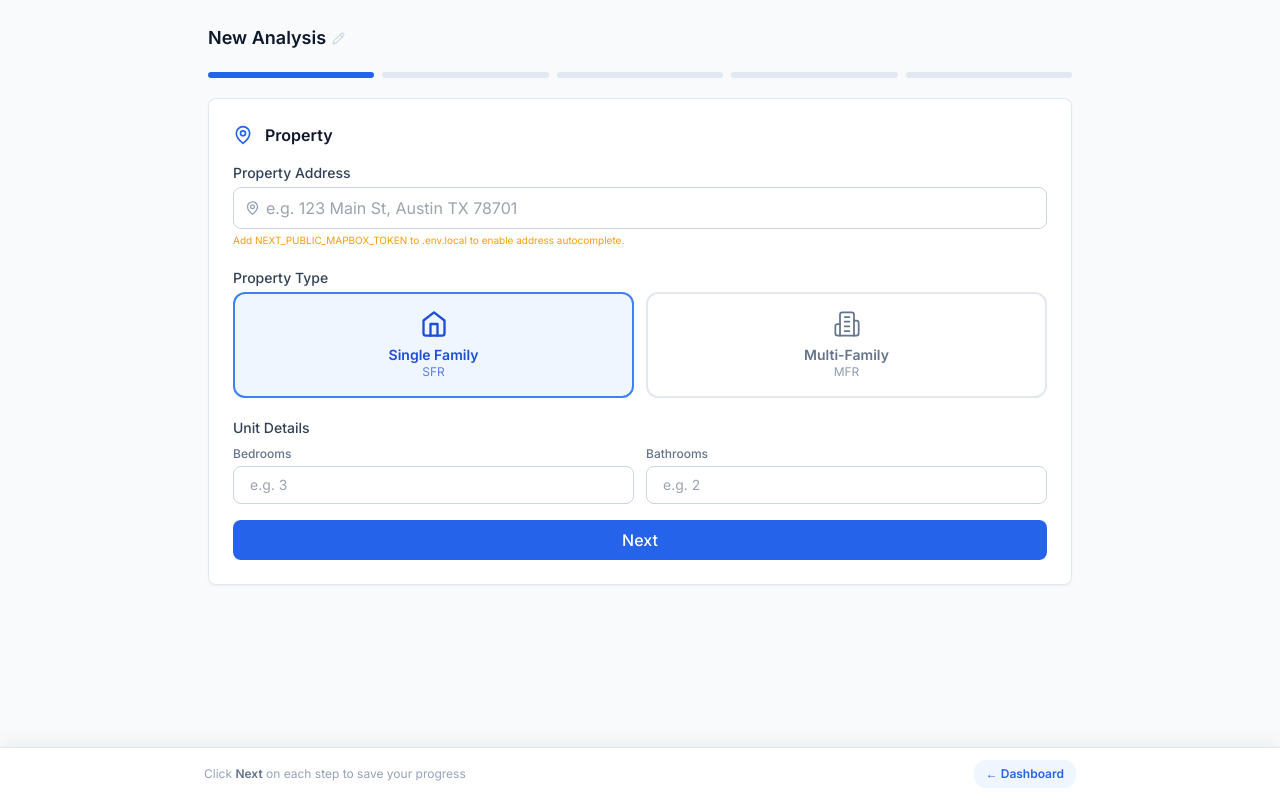
it: DealAnalyzerForm step 0 — address required › Next advances once address is provided
In the field with placeholder "e.g. 123 Main St, Austin TX 78701": (640, 208) [233,187,1047,229], type "1 Test Rd"
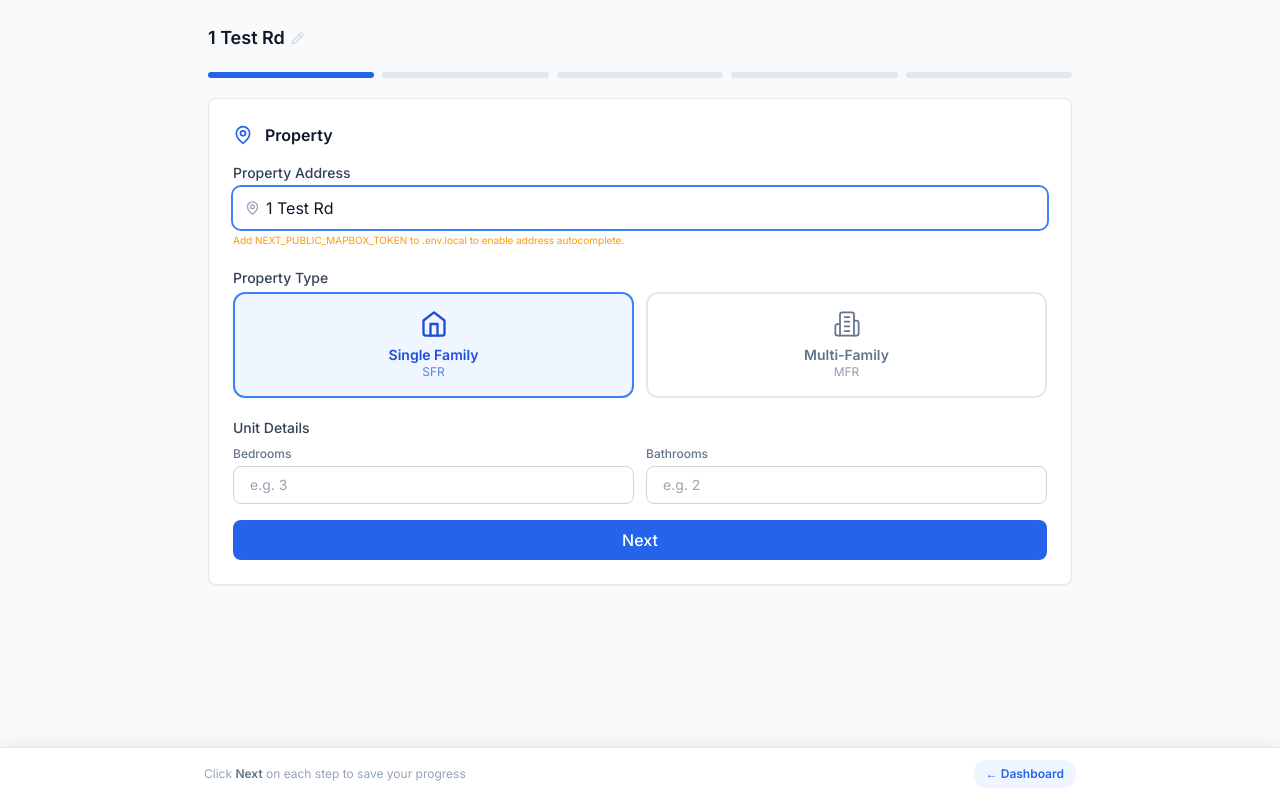
Click the button with test id "header-next-btn": (640, 540) [233,520,1047,560]
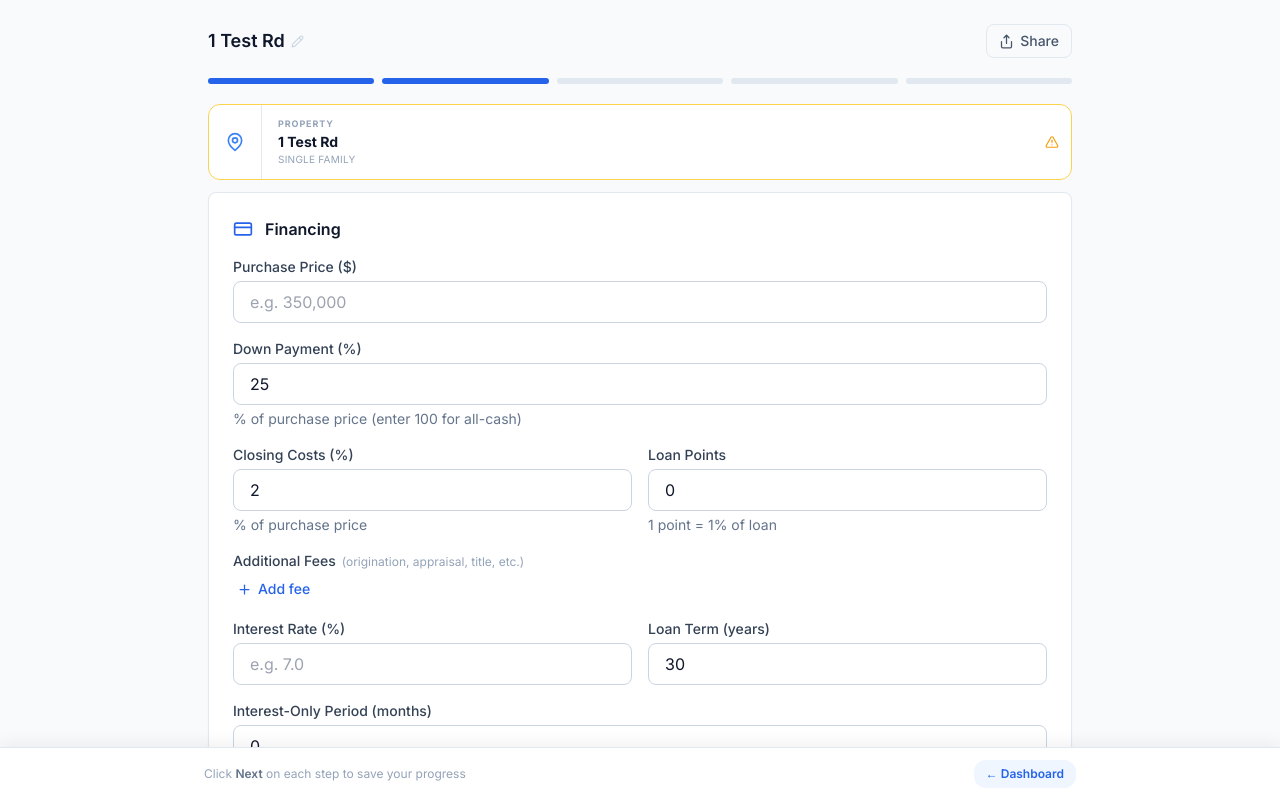
Result: the heading "Financing" is shown at [265,217,341,241]
